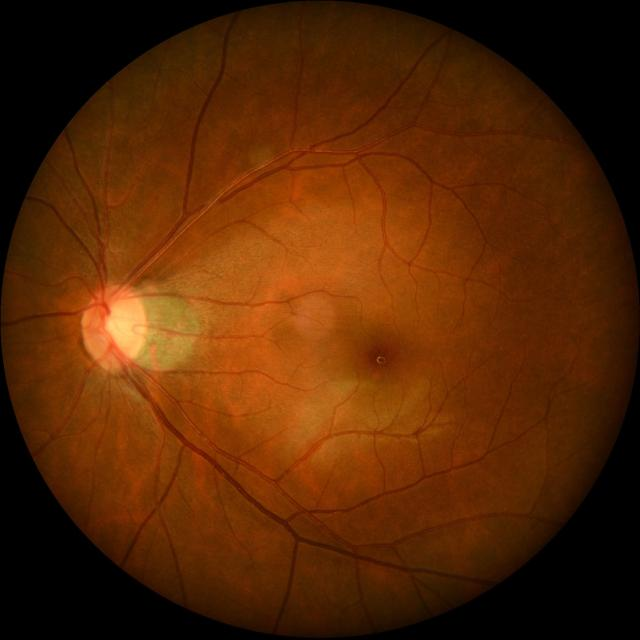OC: (104, 299, 140, 353)
OD: (80, 283, 147, 369)
